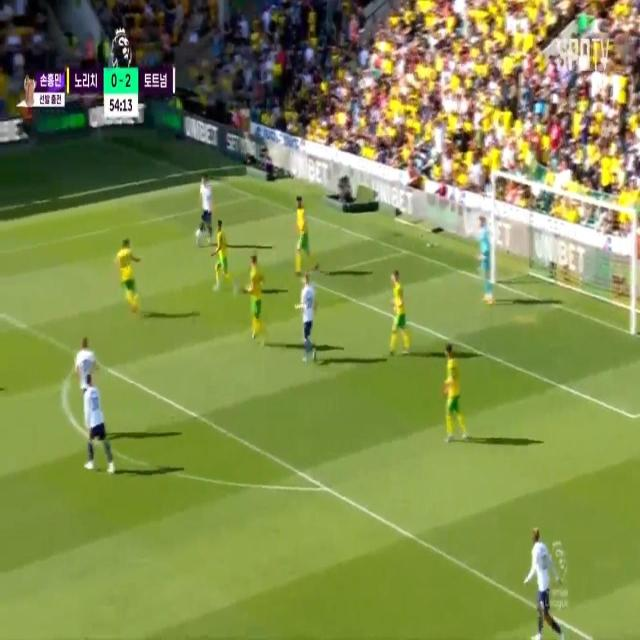ball: (193, 222, 202, 244)
player: (524, 527, 554, 640), (80, 370, 110, 465), (63, 333, 101, 402), (295, 268, 322, 364), (112, 235, 139, 323), (439, 340, 461, 444), (384, 263, 410, 349), (244, 252, 266, 346), (193, 170, 215, 243), (293, 188, 308, 279), (210, 218, 226, 288)
